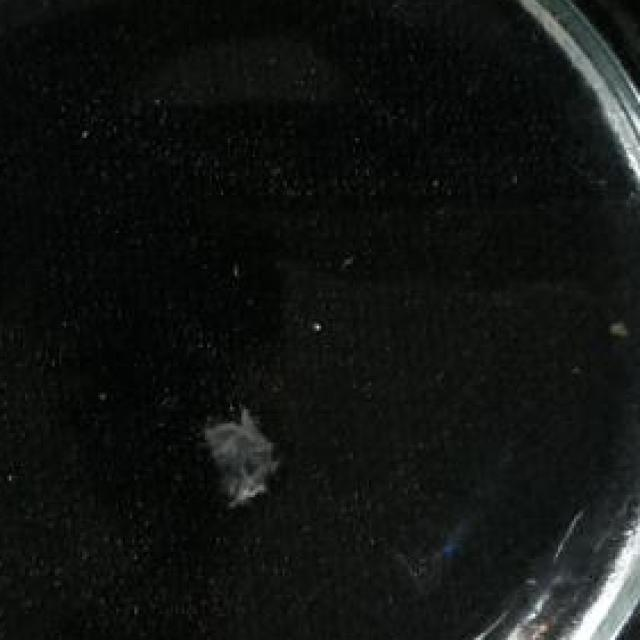Microplastic: (196, 393, 278, 502)
